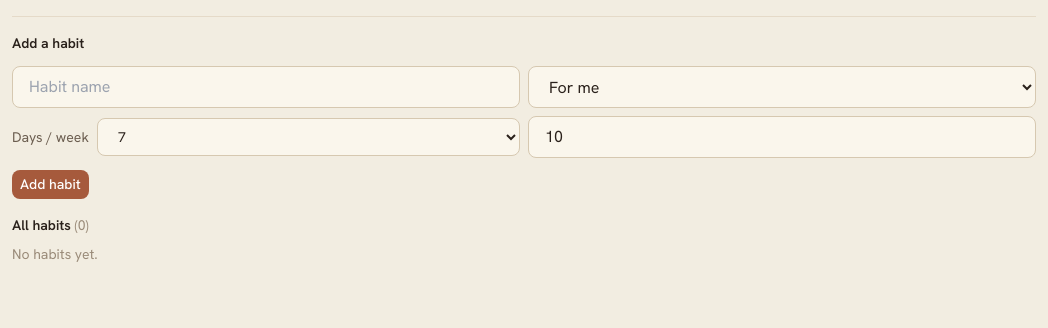
Test: HabitManagePanel › shows an error when create fails
The image size is (1048, 328).
Type "Read" into the field labelled "Habit name" at (266, 87), box [12,66,520,108]
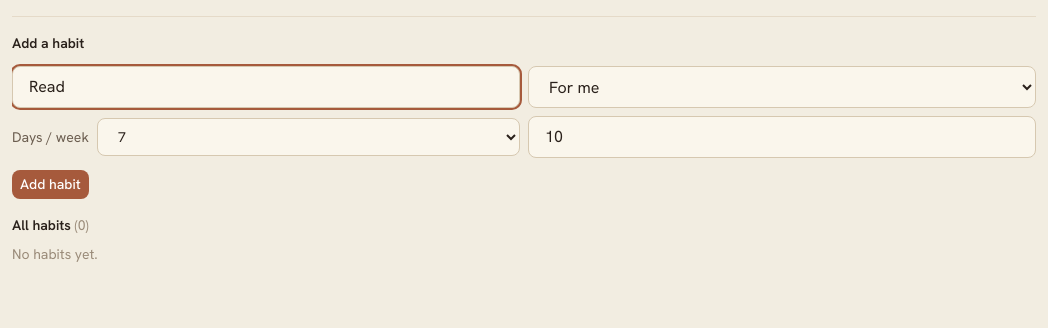
Click the button "Add habit" at (50, 184), box [12,170,89,199]
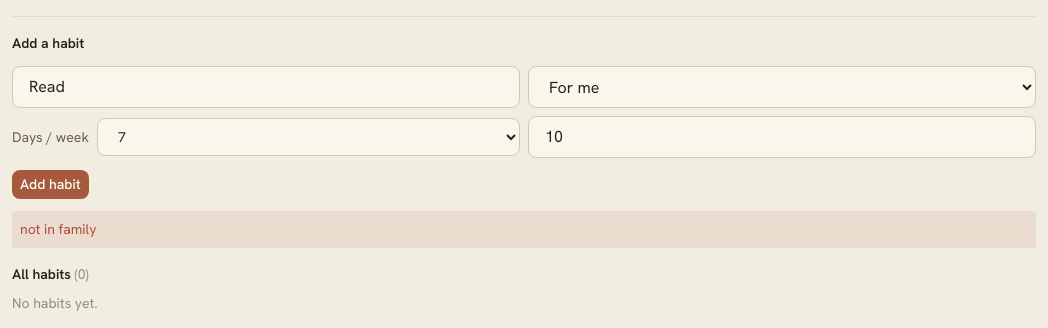
Check: the text "not in family" is shown, box [12,211,1036,248]
